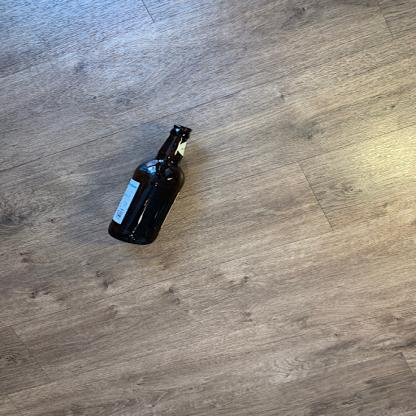trash: (108, 124, 194, 248)
